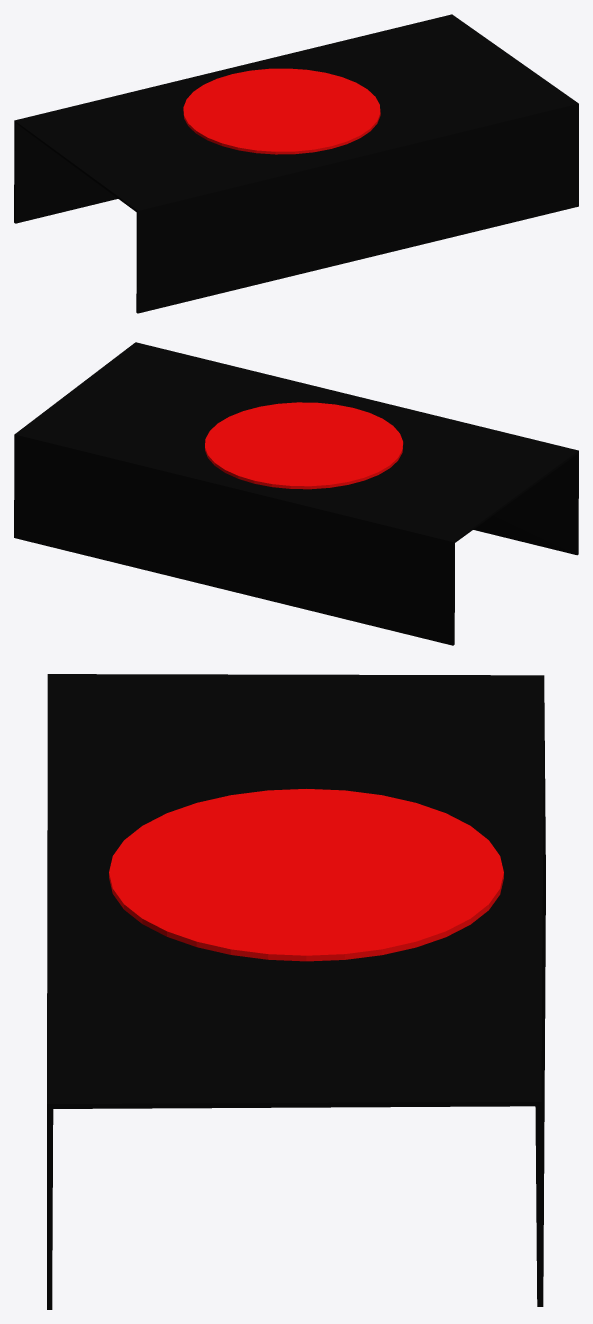
Rendered from SONPIST.dae.
The picture shows the model from 3 angles, top to bottom: view 1: azimuth 30°, elevation 25°; view 2: azimuth 150°, elevation 25°; view 3: azimuth 270°, elevation 25°; orthographic projection. The views are drawn at different scales.
Parts seen in each view (by area): view 1: Cube, Cylinder.001; view 2: Cube, Cylinder.001; view 3: Cube, Cylinder.001.
Boxes of the visible parts, x1,y1,x2,y2 form: Cube: (14, 14, 578, 313); Cylinder.001: (183, 68, 380, 154); Cube: (14, 342, 578, 645); Cylinder.001: (205, 402, 403, 489); Cube: (47, 674, 545, 1309); Cylinder.001: (109, 789, 503, 961).
Size of what is drawn, in the model's own units: 13.72 by 6.73 by 3.14.
